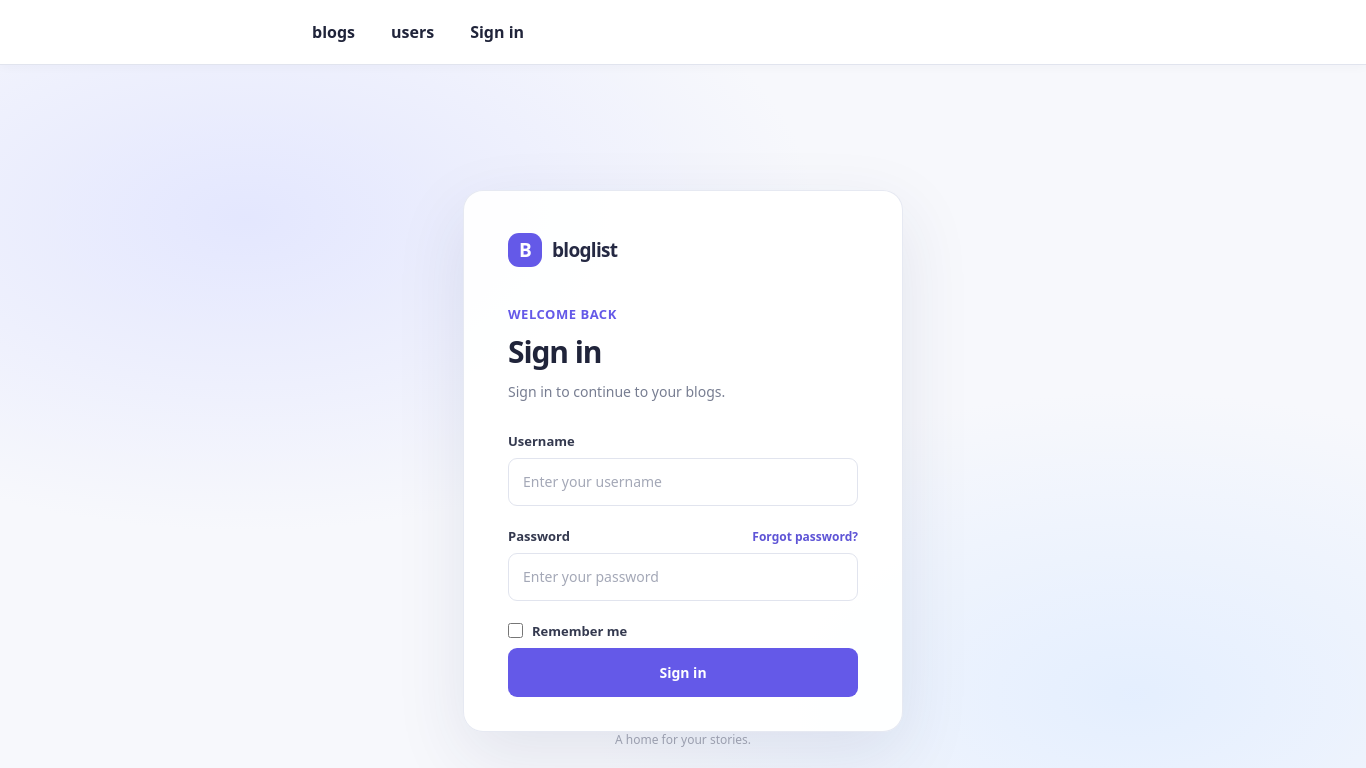
Scenario: App routes and navigation › shows login for a protected route and Add in the navigation after login
The width and height of the screenshot is (1366, 768).
Expected: the heading "Sign in" is shown, x1=508 y1=331 x2=601 y2=372
Expected: the link "Add blog" is not shown
Step 1. Click the link "Sign in" → [497, 32], box x1=470 y1=21 x2=524 y2=43
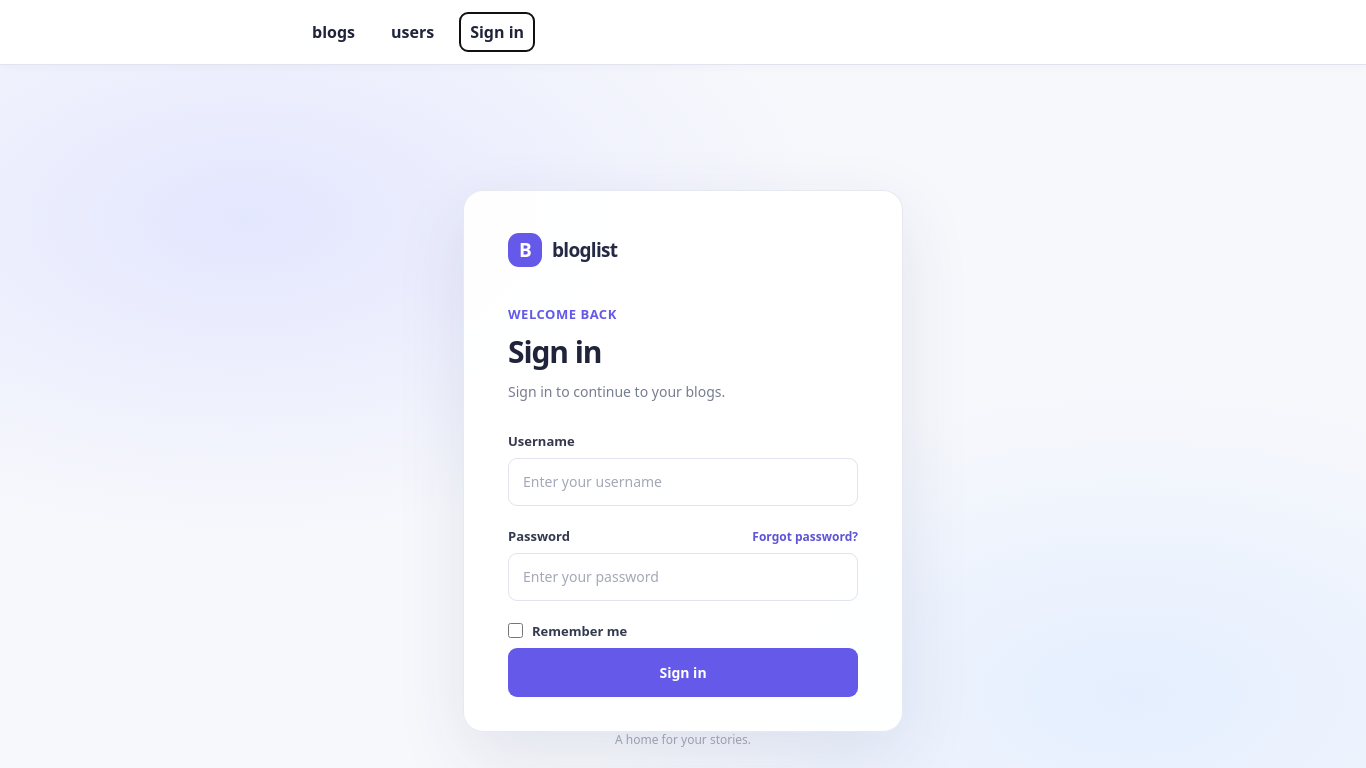
Step 2. Type "testuser" into the field labelled "Username" → [683, 482], box x1=508 y1=458 x2=858 y2=506
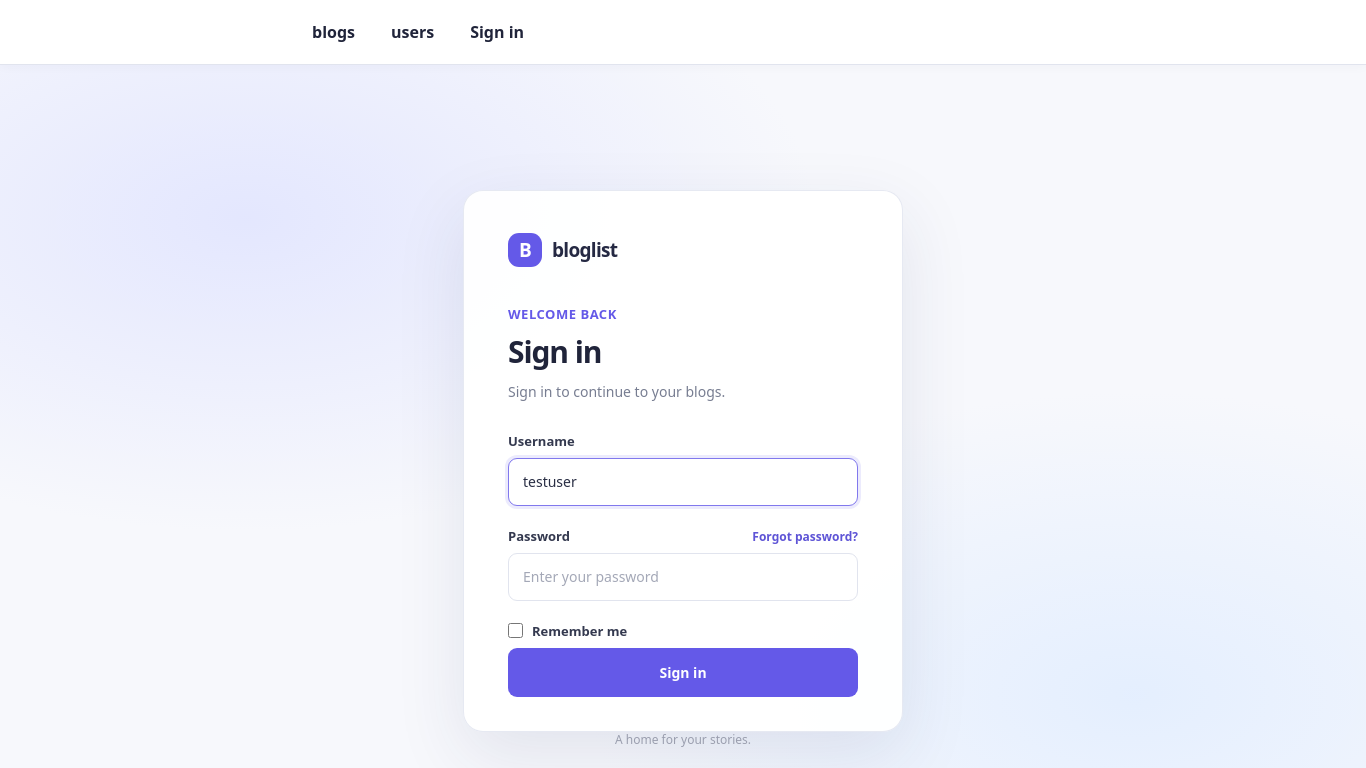
Step 3. Type "password123" into the password field labelled "Password" → [683, 577], box x1=508 y1=553 x2=858 y2=601
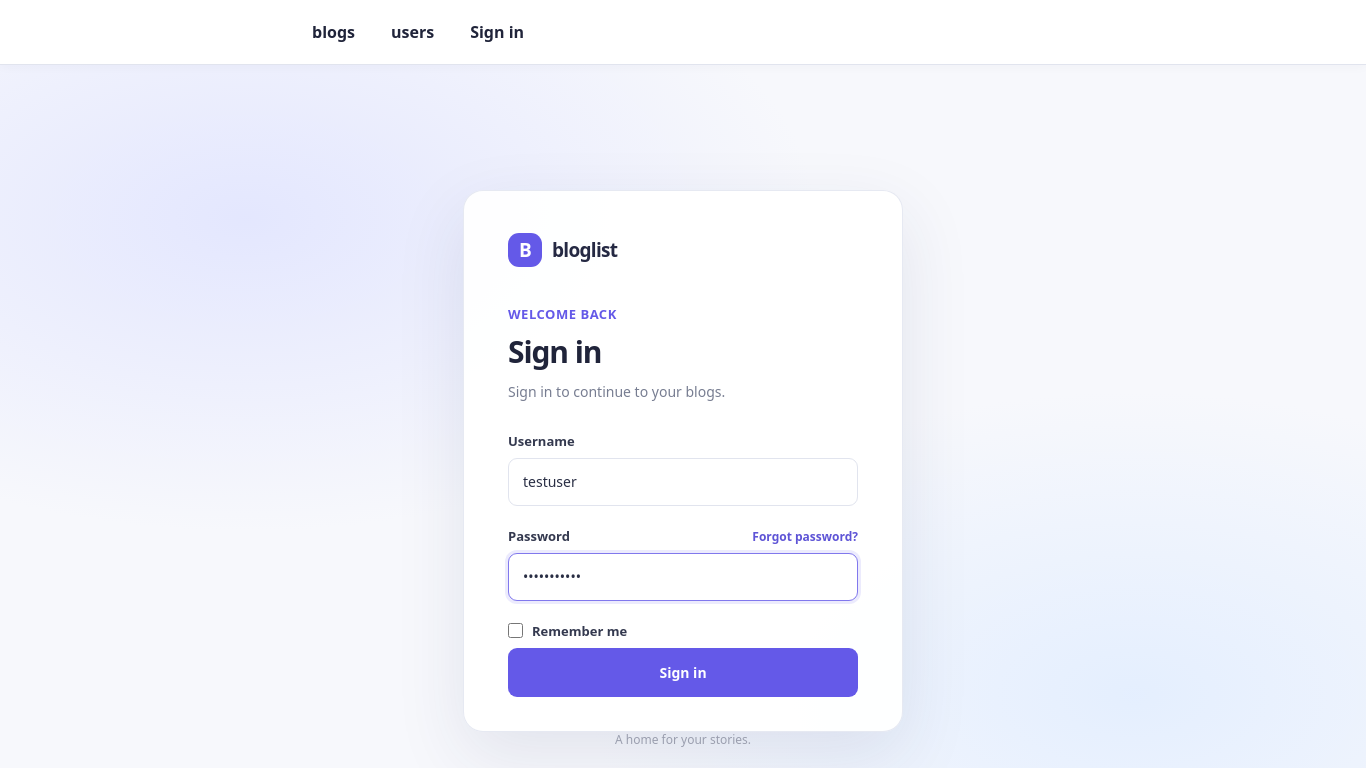
Step 4. Click the button "Sign in" → [683, 672], box x1=508 y1=648 x2=858 y2=697
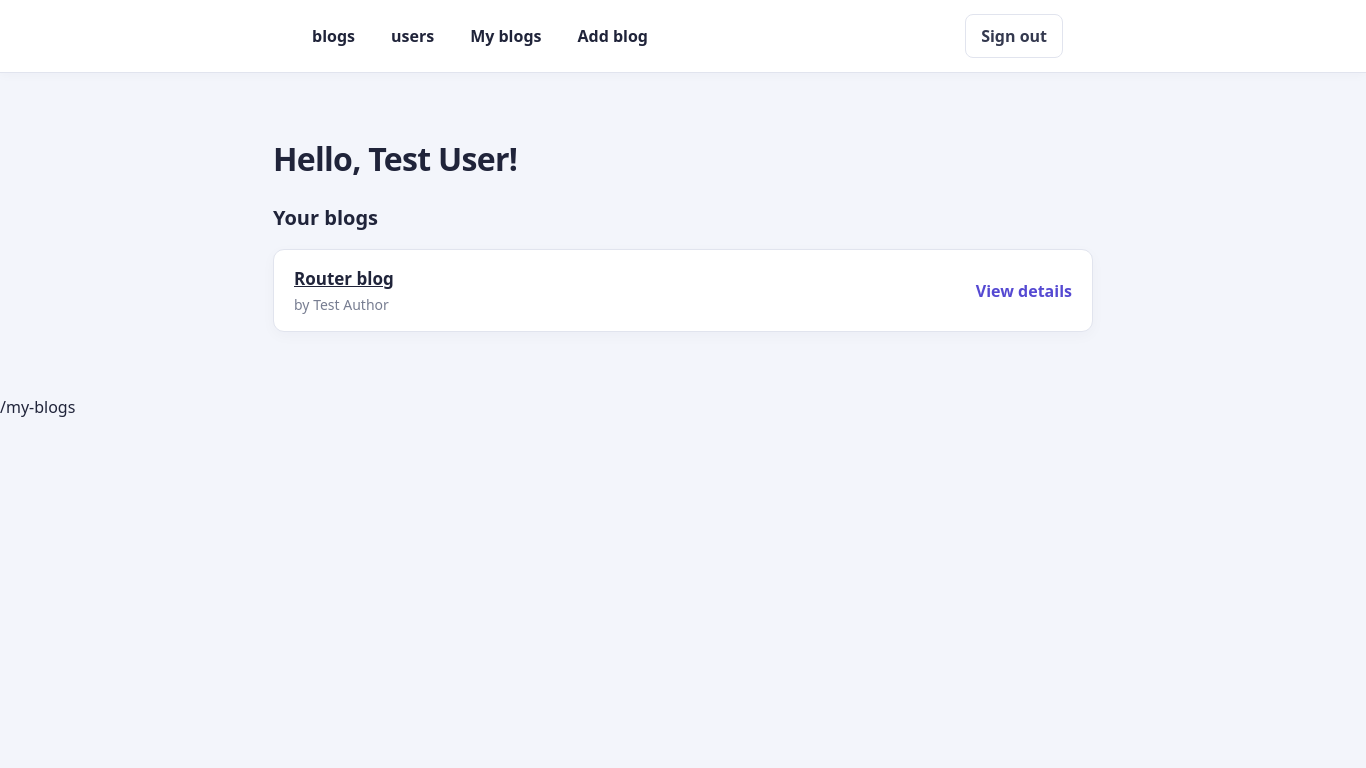
Now the heading "Hello, Test User!" is shown, box x1=273 y1=137 x2=517 y2=180
Step 5. Click the link "Add blog" → [613, 36], box x1=578 y1=25 x2=648 y2=47
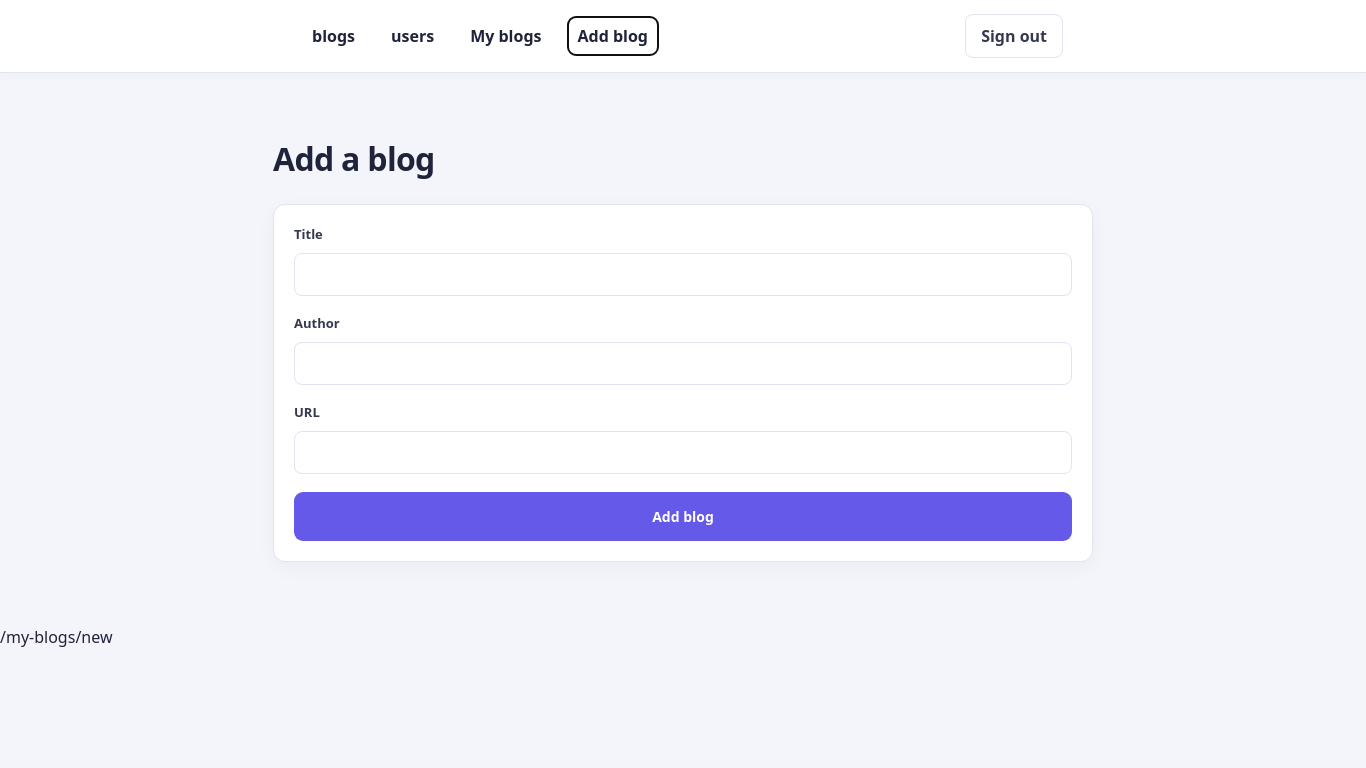
Now the heading "Add a blog" is shown, box x1=273 y1=137 x2=435 y2=180
